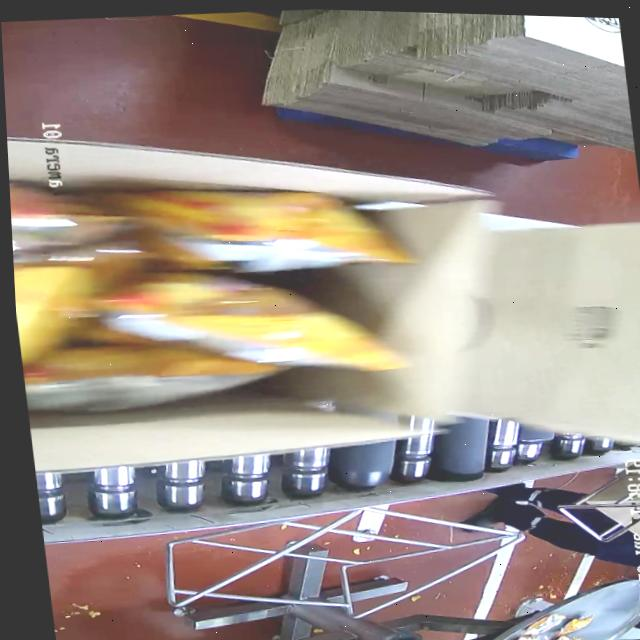FRENCH_CHEESE: (7, 128, 425, 435)
